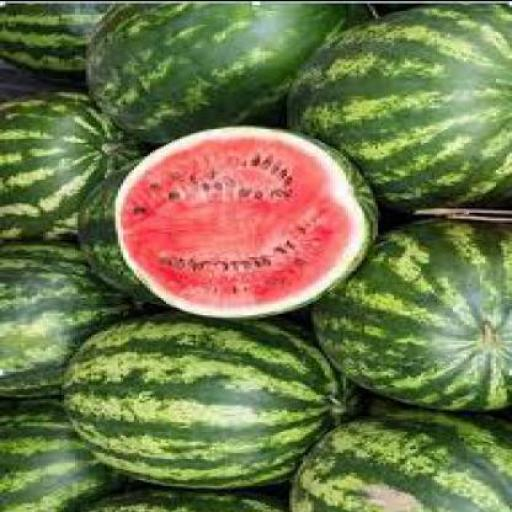biodegradable: (54, 308, 368, 485), (110, 122, 384, 316), (284, 2, 510, 206), (77, 0, 373, 144), (305, 212, 510, 407), (286, 409, 510, 510), (0, 86, 127, 238), (0, 238, 116, 396), (0, 393, 123, 510), (75, 152, 164, 302), (0, 1, 114, 86), (61, 487, 298, 510)
